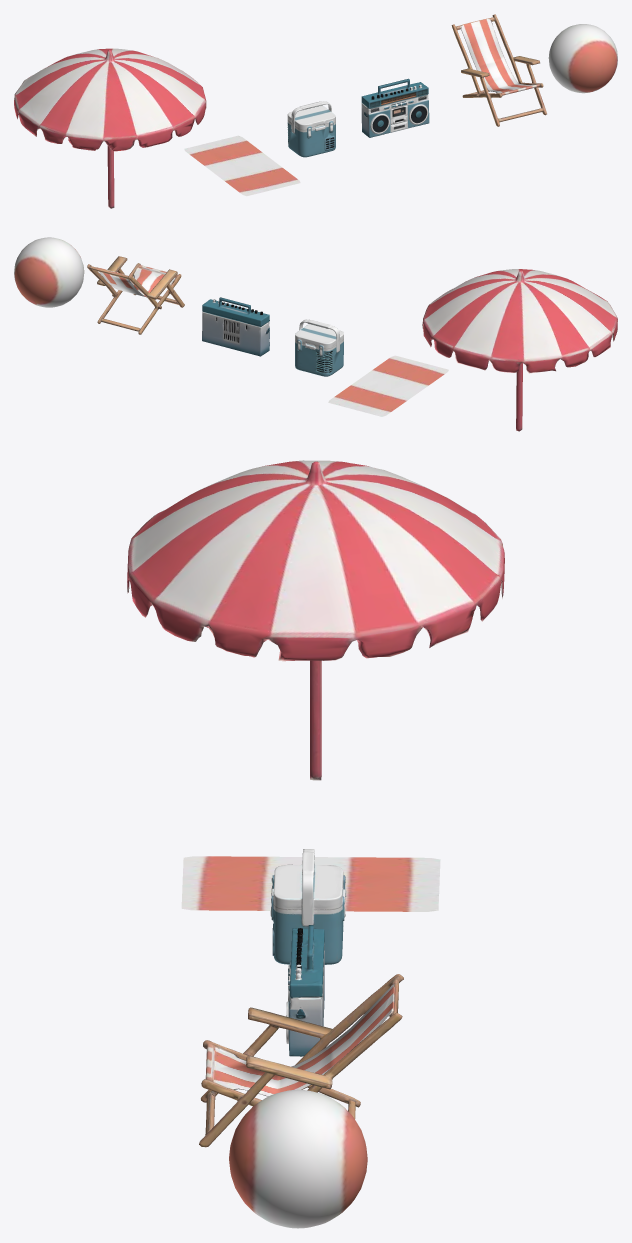
Rendered from beach_kit.glb.
The picture shows the model from 3 angles, top to bottom: view 1: azimuth 30°, elevation 25°; view 2: azimuth 150°, elevation 25°; view 3: azimuth 270°, elevation 25°; orthographic projection. The views are drawn at different scales.
Visible parts, largest first — view 1: Beach umbrella_Umbrella_0, Beach chair_Chair_0, Beach boombox_Boombox_0, Coolbox_Coolbox_0; view 2: Beach umbrella_Umbrella_0, Beach chair_Chair_0, Beach boombox_Boombox_0, Coolbox_Coolbox_0; view 3: Beach umbrella_Umbrella_0, Beach chair_Chair_0, Coolbox_Coolbox_0, Beach boombox_Boombox_0.
Boxes of the visible parts, <box> form: Beach umbrella_Umbrella_0: <box>14,48,206,208</box>; Beach chair_Chair_0: <box>184,14,617,196</box>; Beach boombox_Boombox_0: <box>361,78,429,137</box>; Coolbox_Coolbox_0: <box>287,101,335,157</box>; Beach umbrella_Umbrella_0: <box>422,269,617,431</box>; Beach chair_Chair_0: <box>14,237,448,416</box>; Beach boombox_Boombox_0: <box>202,297,269,356</box>; Coolbox_Coolbox_0: <box>295,319,343,376</box>; Beach umbrella_Umbrella_0: <box>127,460,504,780</box>; Beach chair_Chair_0: <box>181,856,440,1228</box>; Coolbox_Coolbox_0: <box>270,849,346,964</box>; Beach boombox_Boombox_0: <box>286,925,324,1056</box>.
Size of the model in its own units: 12.48 by 3.24 by 3.51.
4 materials, 4 textured.
